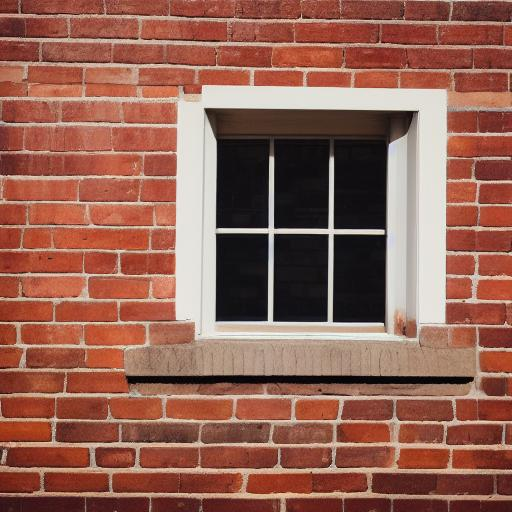Window: (125, 85, 481, 399)
